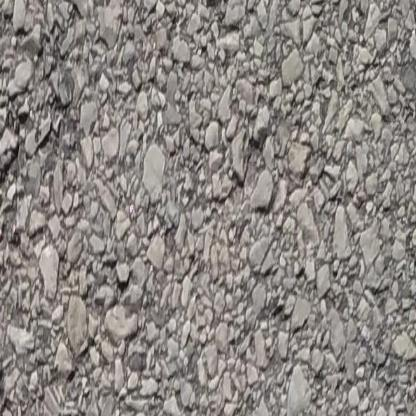Cracks: (0, 252, 23, 416)
